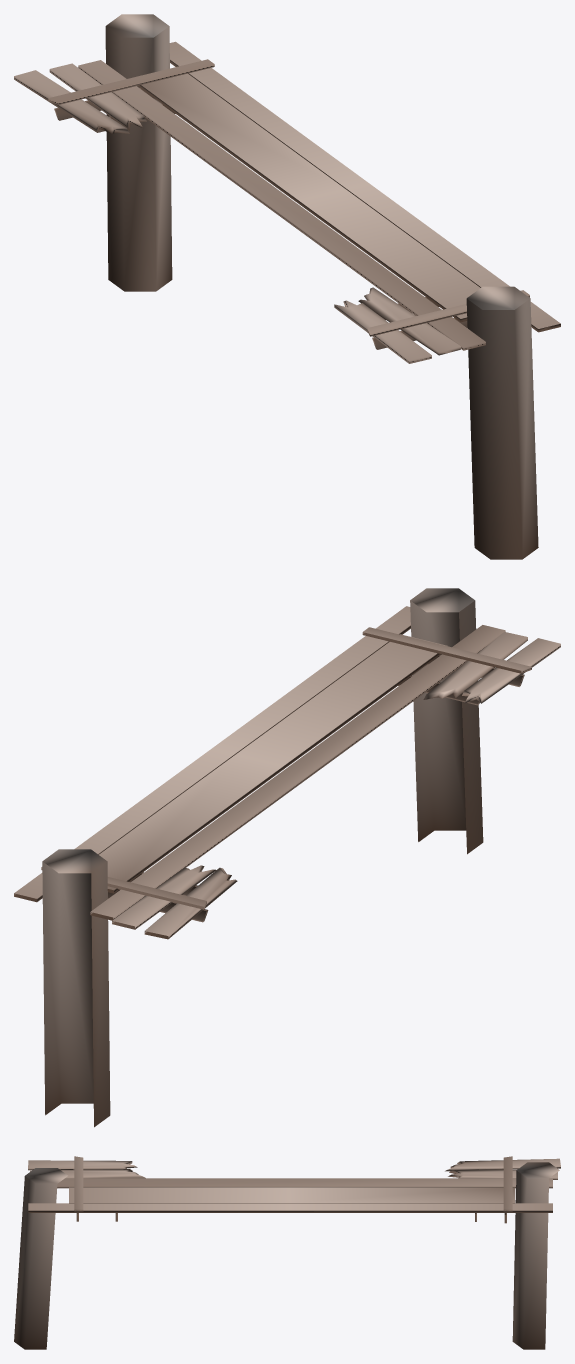
Rendered from WoodenBridge_V2_01.fbx.
3 views of the same model, one above another, from view 1: azimuth 30°, elevation 25°; view 2: azimuth 150°, elevation 25°; view 3: azimuth 270°, elevation 25° (orthographic). The views are drawn at different scales.
Parts seen in each view (by area): view 1: WoodenBridge_V2_01; view 2: WoodenBridge_V2_01; view 3: WoodenBridge_V2_01.
Part boxes in pixels (left/top/right/bottom): WoodenBridge_V2_01: left=14, top=14, right=560, bottom=559; WoodenBridge_V2_01: left=14, top=588, right=560, bottom=1127; WoodenBridge_V2_01: left=14, top=1156, right=560, bottom=1349.
Size of the model in its own units: 309 by 460 by 1332.
